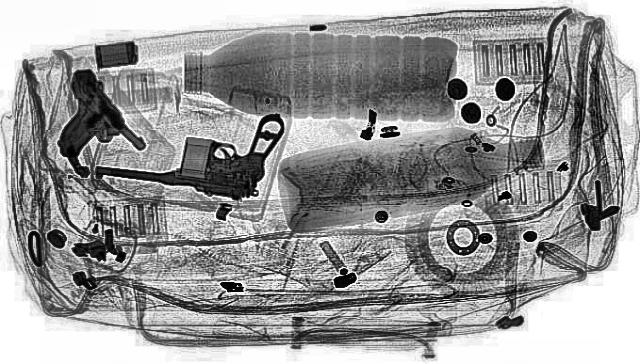Gun: (86, 102, 290, 201), (4, 62, 162, 176)
